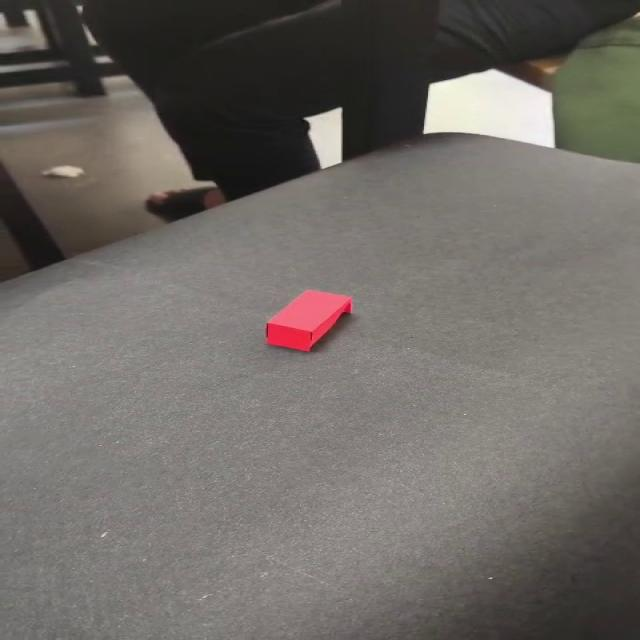red block: (264, 288, 353, 352)
